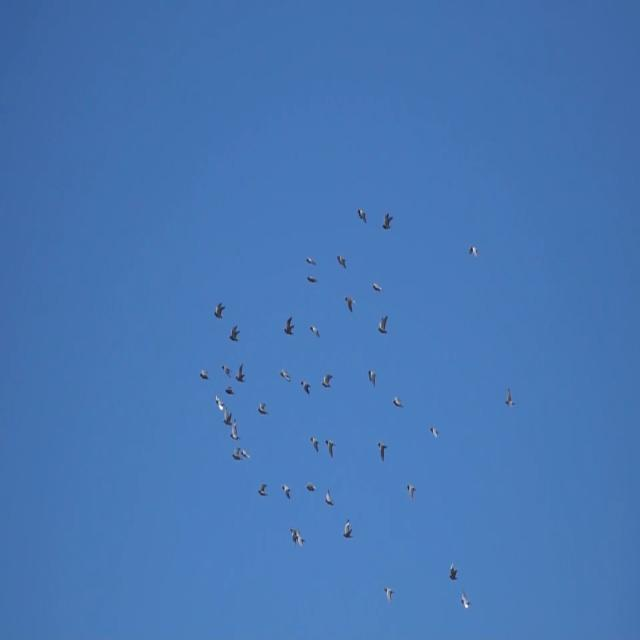bird: (289, 522, 305, 549), (376, 313, 389, 339), (282, 314, 296, 338), (459, 589, 473, 612), (342, 516, 353, 543), (381, 210, 394, 232), (376, 439, 388, 462), (212, 393, 226, 412), (324, 438, 336, 460), (343, 294, 356, 314), (298, 378, 311, 398), (227, 324, 240, 343), (235, 360, 246, 382), (212, 301, 224, 321), (279, 368, 294, 384), (230, 443, 242, 463), (448, 562, 460, 582), (220, 410, 233, 427), (504, 388, 514, 410), (309, 433, 320, 453), (356, 207, 368, 225), (197, 366, 209, 382), (320, 372, 332, 388), (392, 394, 404, 410), (228, 422, 240, 438), (336, 252, 347, 269), (405, 483, 416, 500), (304, 478, 317, 492), (384, 585, 394, 603), (308, 323, 320, 338), (256, 481, 268, 496), (323, 490, 334, 506), (280, 482, 290, 499), (220, 364, 232, 377), (468, 244, 479, 258), (223, 383, 234, 397), (372, 282, 384, 294), (368, 369, 377, 385), (256, 404, 268, 416), (305, 256, 317, 267), (306, 273, 318, 284), (430, 425, 440, 437), (240, 448, 250, 460)
